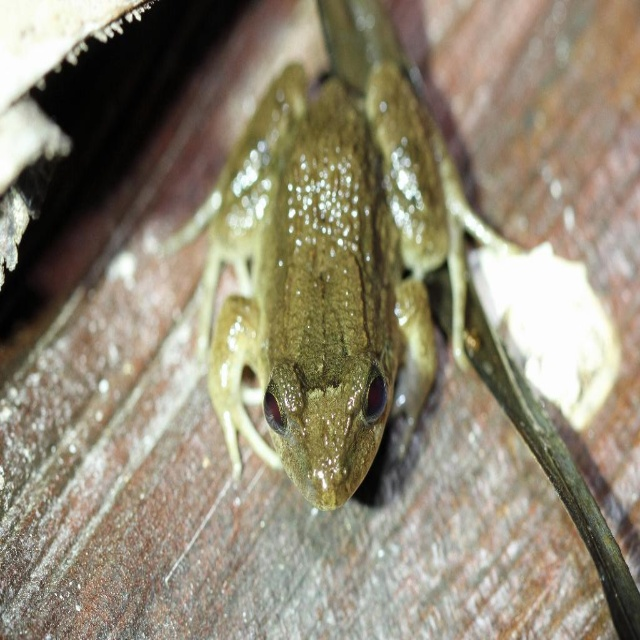Frog: (160, 59, 527, 512)
